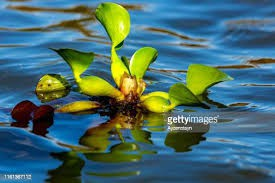water_hyacinth: (16, 1, 238, 114)
